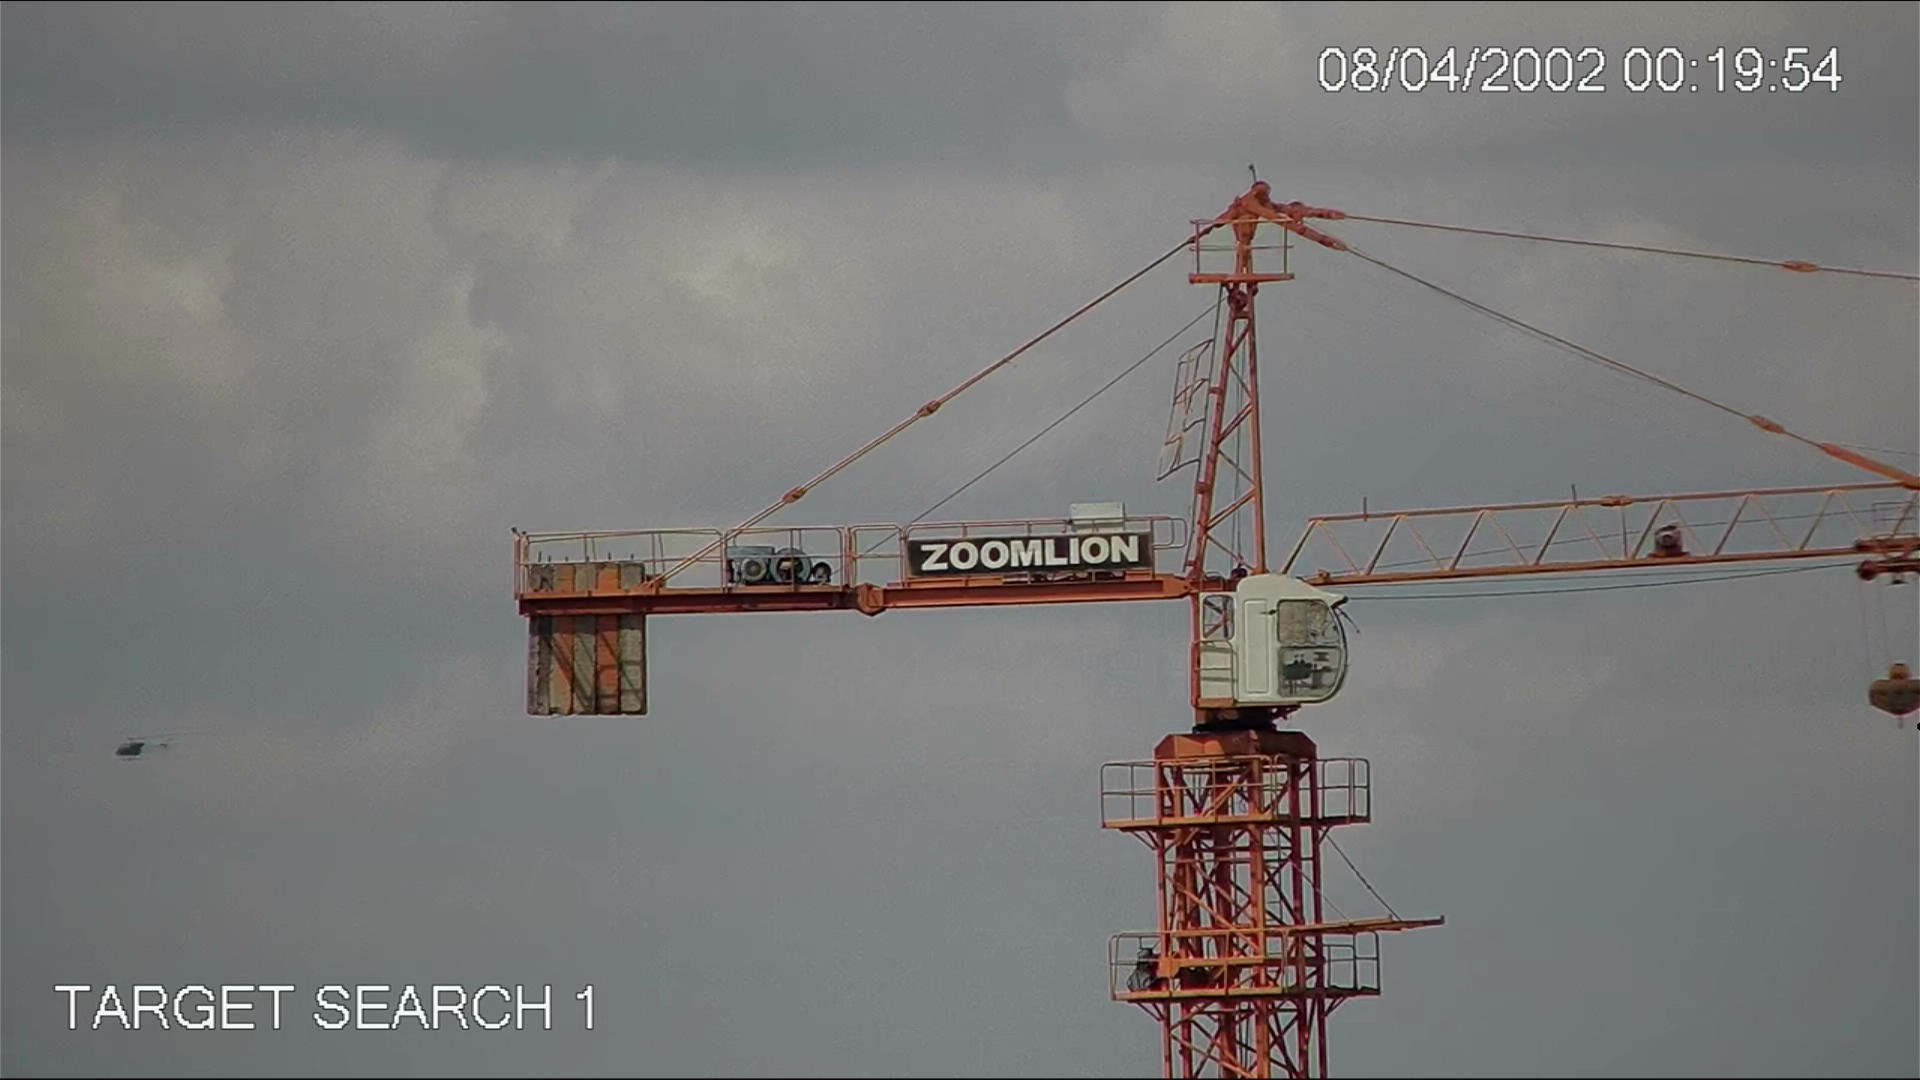SU_30: (112, 727, 178, 761)
